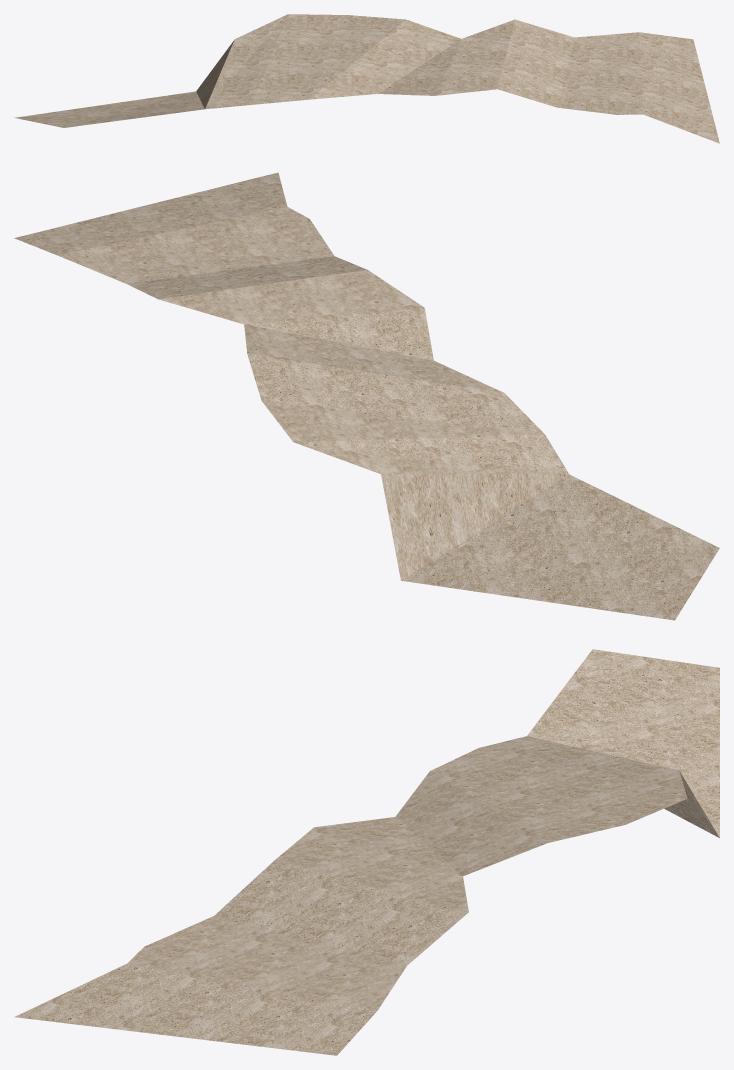
Rendered from lodseabed130.obj.
3 views of the same model, one above another, from view 1: azimuth 30°, elevation 25°; view 2: azimuth 150°, elevation 25°; view 3: azimuth 270°, elevation 25° (orthographic). The views are drawn at different scales.
Parts seen in each view (by area): view 1: lodseabed130; view 2: lodseabed130; view 3: lodseabed130.
Boxes of the visible parts, bbox=[...] form: lodseabed130: bbox=[14, 14, 719, 143]; lodseabed130: bbox=[14, 172, 719, 620]; lodseabed130: bbox=[14, 649, 719, 1055].
Bounding box in the file's own units: 335 × 41.89 × 229.
